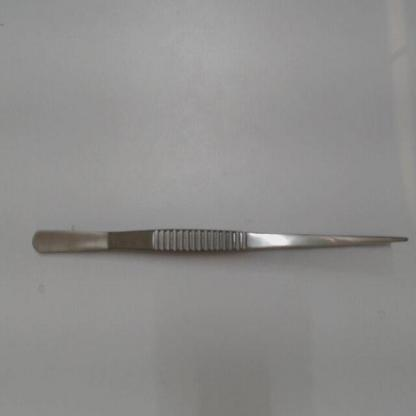DeBakey Dissector: (22, 218, 414, 295)
